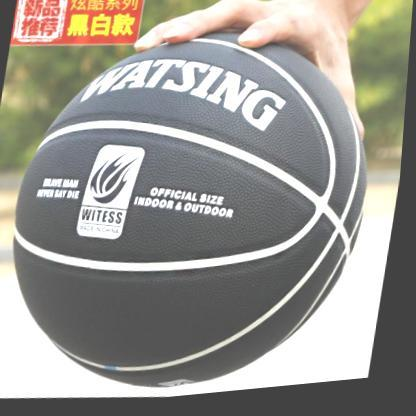basketball: (0, 17, 395, 415)
